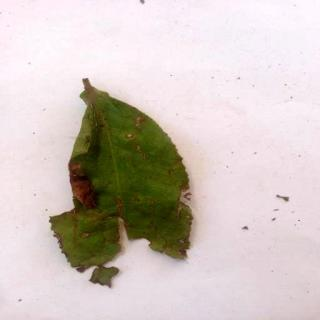Brown Blight: (52, 79, 197, 289)
